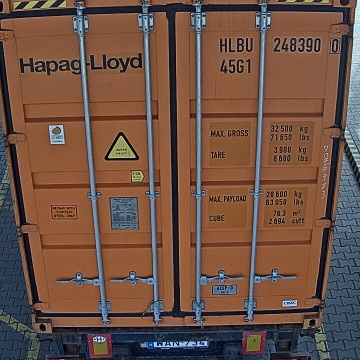serial_id: (220, 37, 340, 52)
